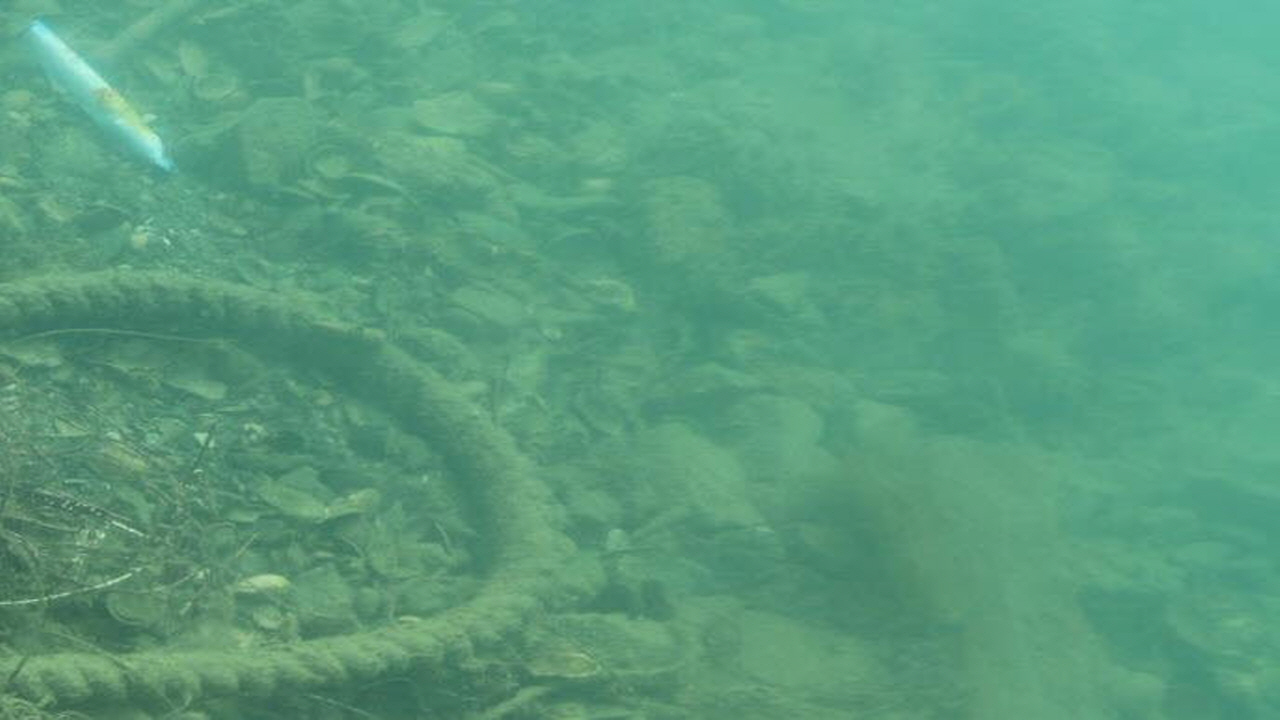rope: (0, 265, 554, 712)
